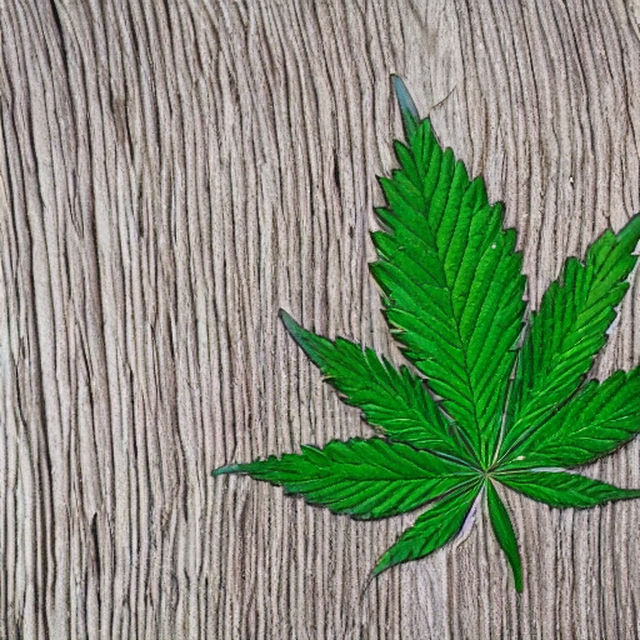Marijuana Leaf: (210, 71, 640, 597)
